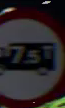Heavy Vehicles: (1, 6, 62, 107)
